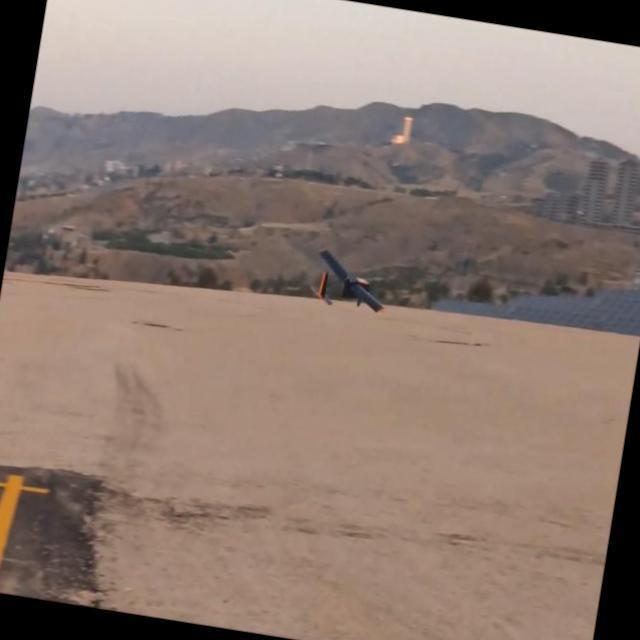iha: (259, 258, 387, 314)
